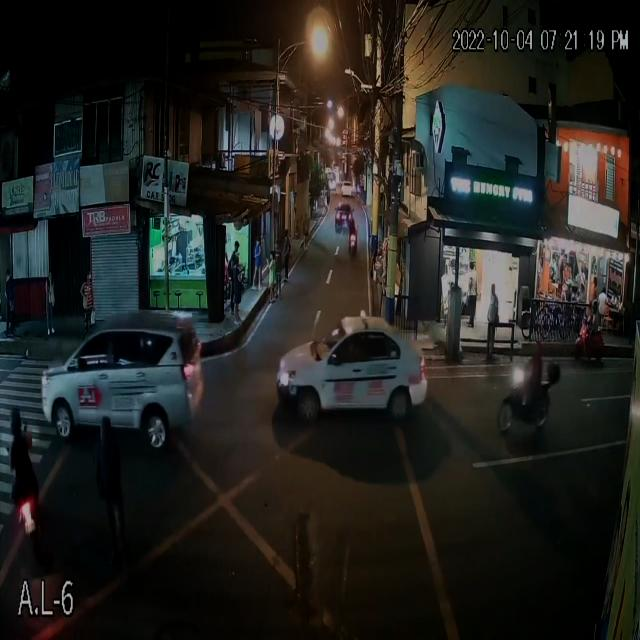Full-Faced: (532, 338, 544, 357)
